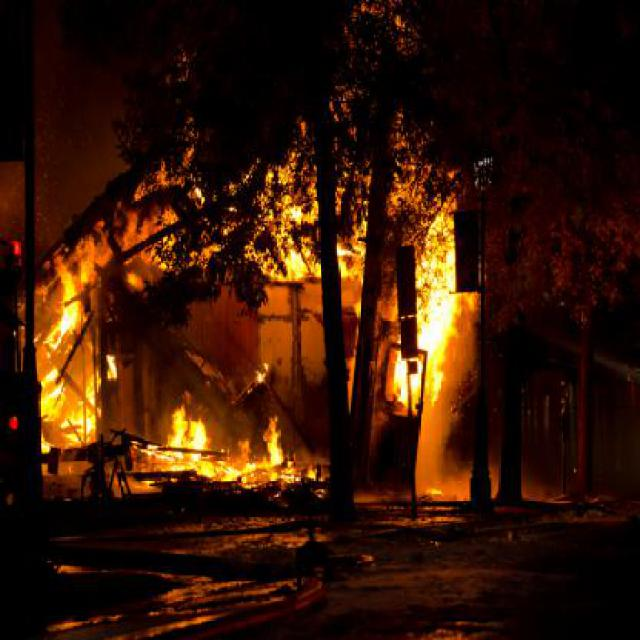fire: (37, 233, 477, 495)
